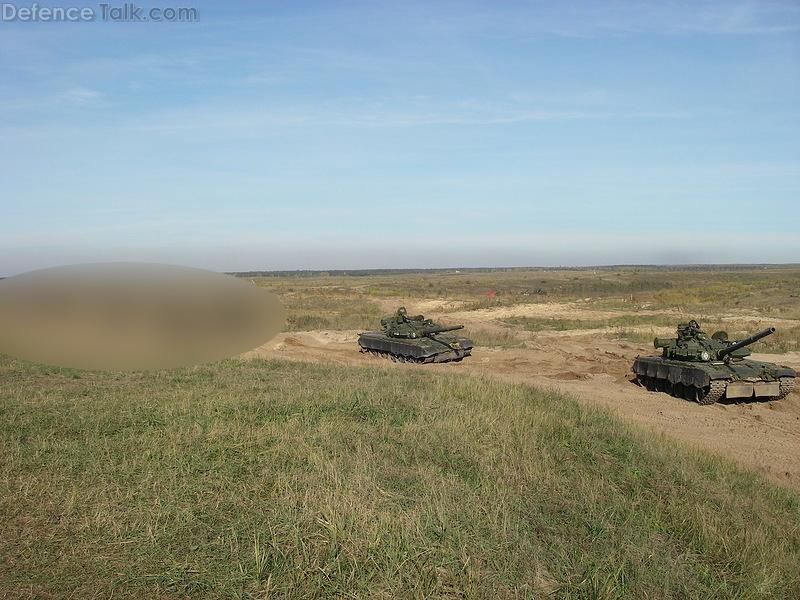tank: (628, 320, 798, 406), (355, 302, 477, 366)
